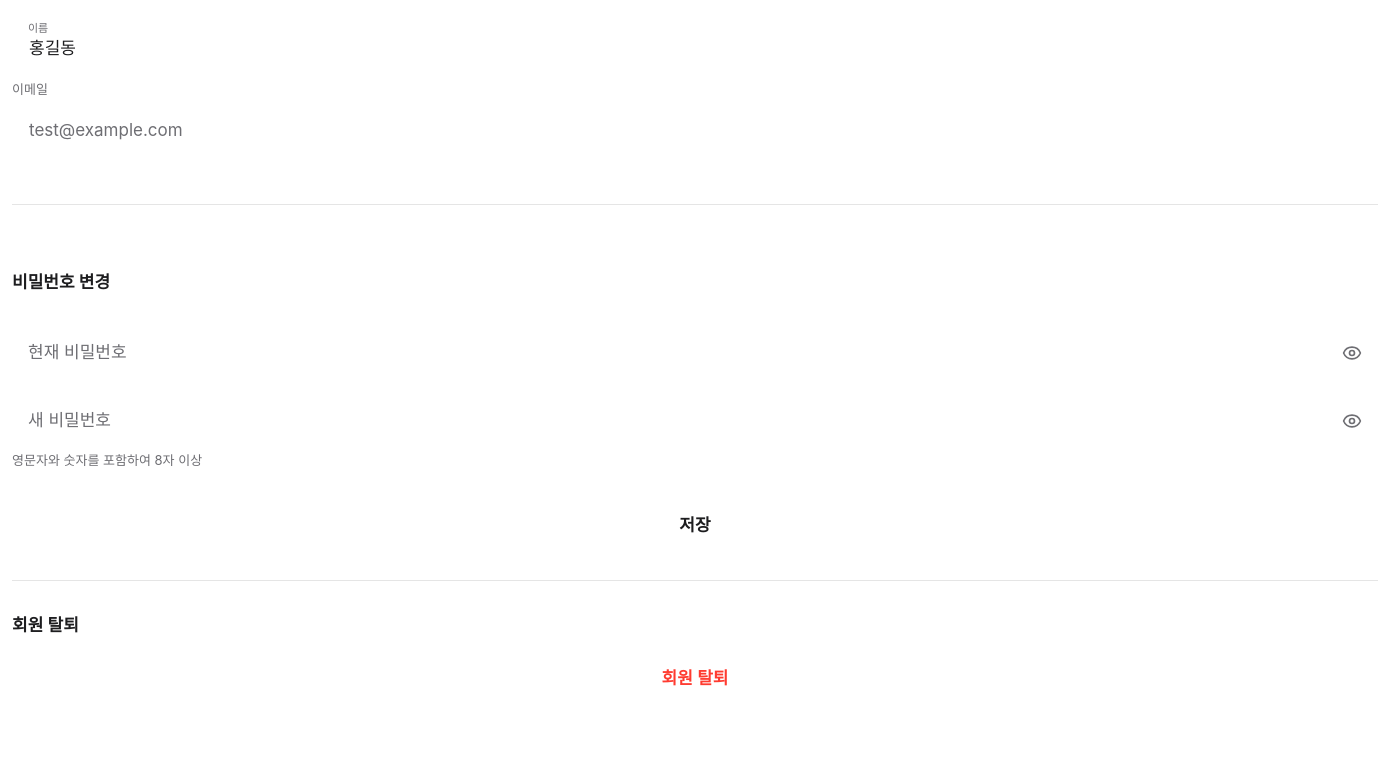
Scenario: ProfileForm › AUTH_PASSWORD_MISMATCH 오류 시 "현재 비밀번호가 올바르지 않습니다." 메시지가 표시된다
The image size is (1390, 780).
In the password field labelled "현재 비밀번호": [695, 353] box [12,327,1378,379], type "wrongpassword"
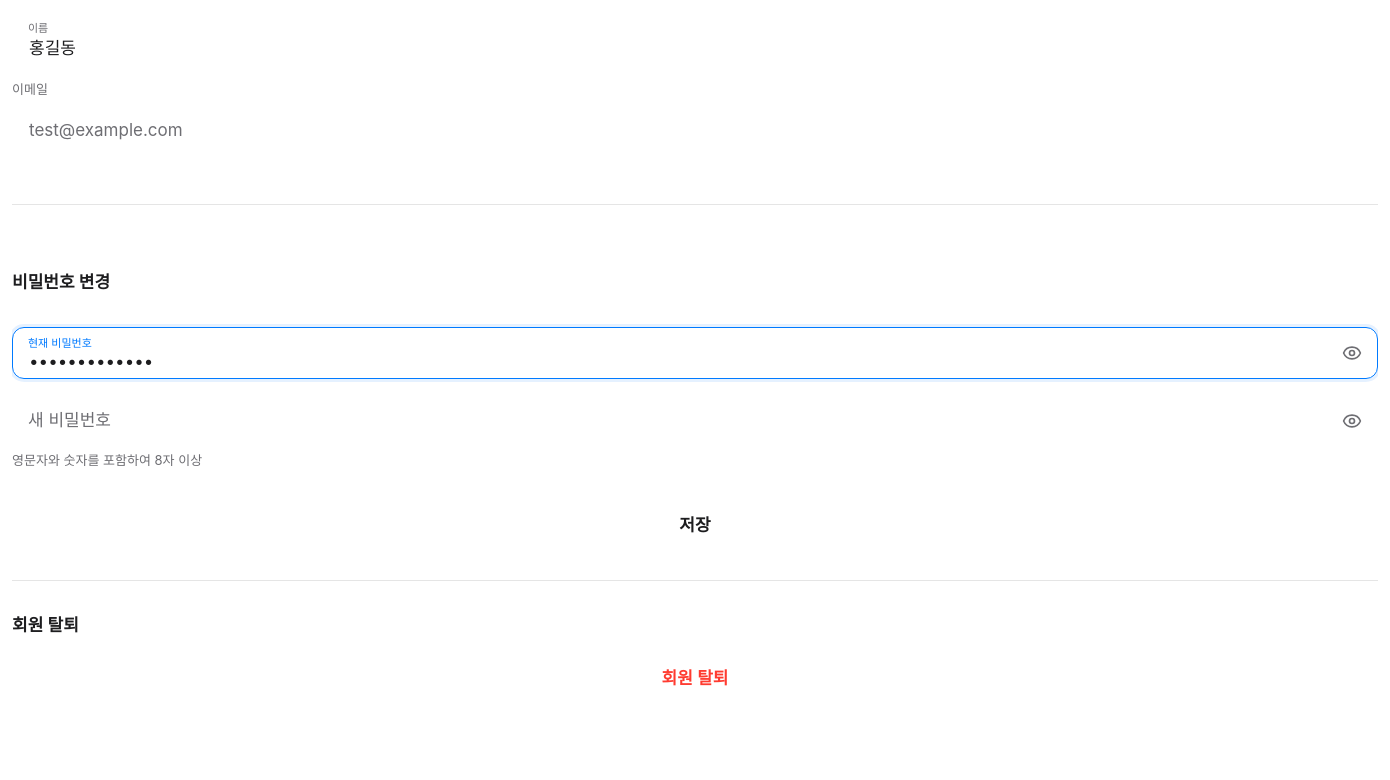
In the password field labelled "새 비밀번호": [695, 421] box [12,395,1378,447], type "newpassword123"
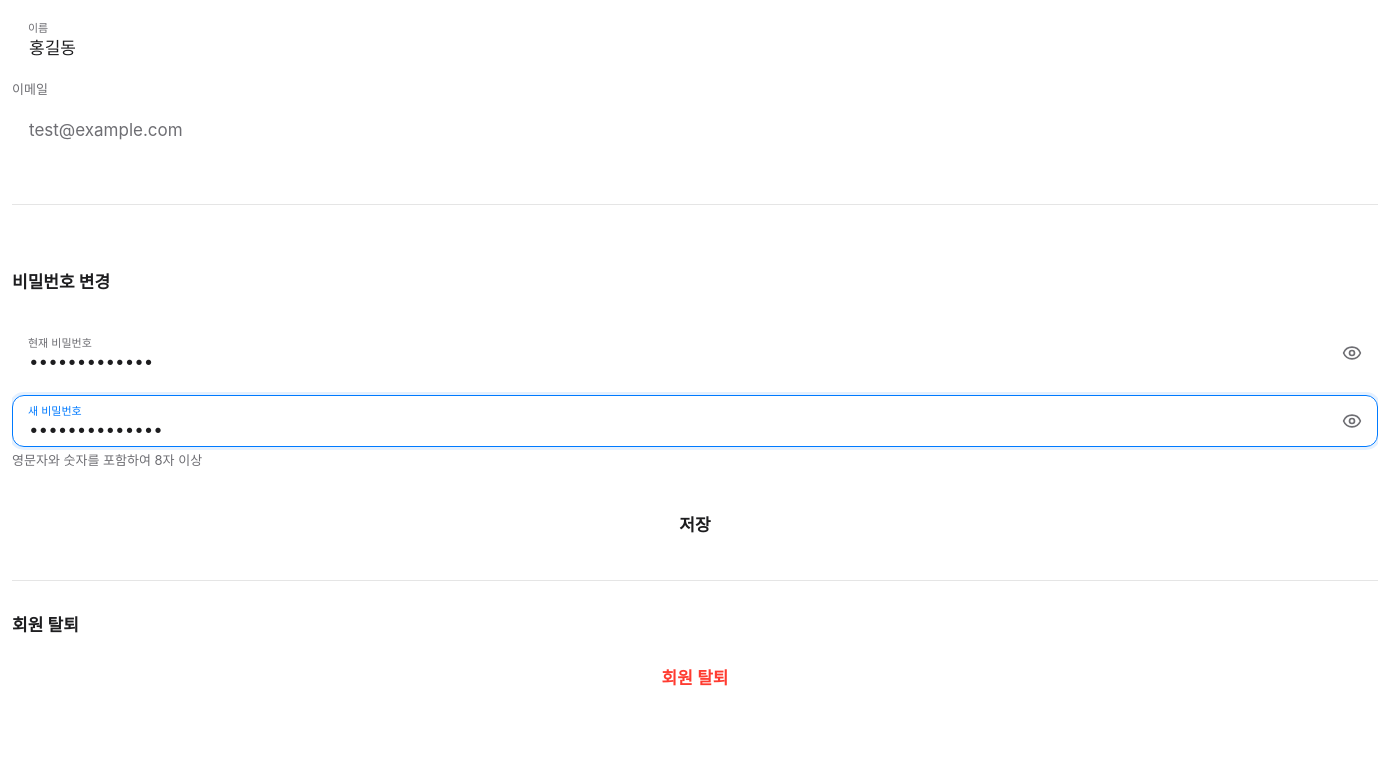
Click the button "저장": [695, 523] box [12,498,1378,548]
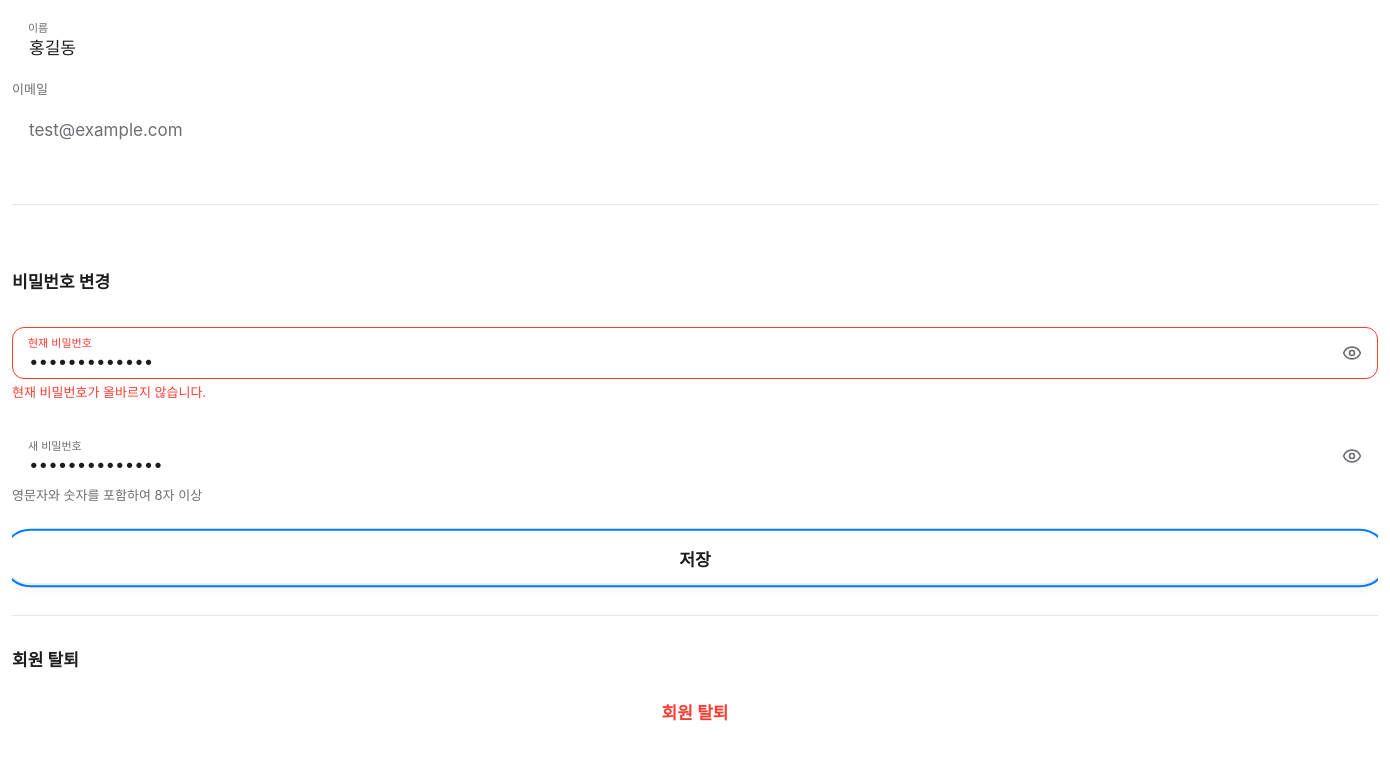
Now the text "현재 비밀번호가 올바르지 않습니다." is shown, box [12,384,206,400]
